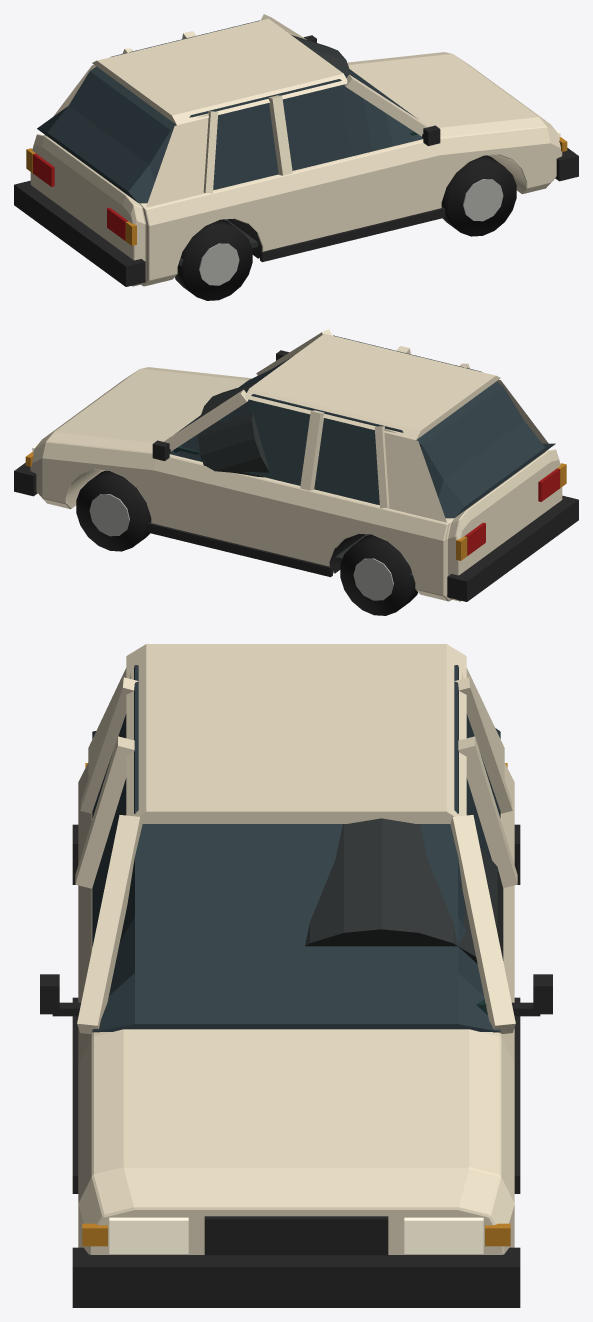
The model's file is vardarka.glb.
3 renders of one model, top to bottom at view 1: azimuth 30°, elevation 25°; view 2: azimuth 150°, elevation 25°; view 3: azimuth 270°, elevation 25°, orthographic. The views are drawn at different scales.
Visible parts, largest first — view 1: Body, Greenhouse, Roof, Bumper_R, Pillar_C_R, Tire_RR, Tire_FR, Sill_R, Hub_RR, Hub_FR, Pillar_A_R, Pillar_B_R (+5 smaller); view 2: Body, Greenhouse, Roof, Bumper_R, SteeringRim, Pillar_C_L, Tire_RL, Tire_FL, Sill_L, Hub_RL, Hub_FL, Pillar_A_L (+7 smaller); view 3: Body, Greenhouse, Roof, Bumper_F, SteeringRim, Grille, Pillar_A_L, Pillar_A_R, Pillar_B_R, Pillar_B_L, Lamp_Head_L, Lamp_Head_R (+4 smaller).
Boxes of the visible parts, bbox=[...] form: Body: bbox=[30, 52, 562, 286]; Greenhouse: bbox=[37, 20, 423, 203]; Roof: bbox=[92, 18, 347, 124]; Bumper_R: bbox=[14, 180, 145, 286]; Pillar_C_R: bbox=[146, 113, 208, 207]; Tire_RR: bbox=[175, 220, 252, 300]; Tire_FR: bbox=[441, 155, 516, 236]; Sill_R: bbox=[260, 207, 445, 262]; Hub_RR: bbox=[199, 243, 239, 285]; Hub_FR: bbox=[463, 179, 503, 221]; Pillar_A_R: bbox=[344, 74, 429, 136]; Pillar_B_R: bbox=[268, 95, 292, 175]; Body: bbox=[30, 367, 562, 601]; Greenhouse: bbox=[169, 335, 555, 518]; Roof: bbox=[245, 333, 500, 439]; Bumper_R: bbox=[447, 495, 578, 601]; SteeringRim: bbox=[198, 381, 269, 477]; Pillar_C_L: bbox=[384, 428, 446, 522]; Tire_RL: bbox=[340, 535, 417, 615]; Tire_FL: bbox=[76, 470, 151, 551]; Sill_L: bbox=[147, 522, 332, 577]; Hub_RL: bbox=[353, 558, 393, 600]; Hub_FL: bbox=[89, 494, 129, 536]; Pillar_A_L: bbox=[163, 389, 248, 451]; Body: bbox=[78, 763, 514, 1254]; Greenhouse: bbox=[92, 665, 500, 1031]; Roof: bbox=[126, 644, 466, 823]; Bumper_F: bbox=[72, 1247, 520, 1307]; SteeringRim: bbox=[305, 818, 503, 963]; Grille: bbox=[204, 1216, 388, 1255]; Pillar_A_L: bbox=[450, 815, 515, 1033]; Pillar_A_R: bbox=[77, 815, 142, 1033]; Pillar_B_R: bbox=[75, 736, 134, 888]; Pillar_B_L: bbox=[458, 736, 517, 888]; Lamp_Head_L: bbox=[404, 1217, 483, 1253]; Lamp_Head_R: bbox=[109, 1217, 188, 1253].
Bounding box in the file's own units: 3.69 × 1.41 × 1.81.
